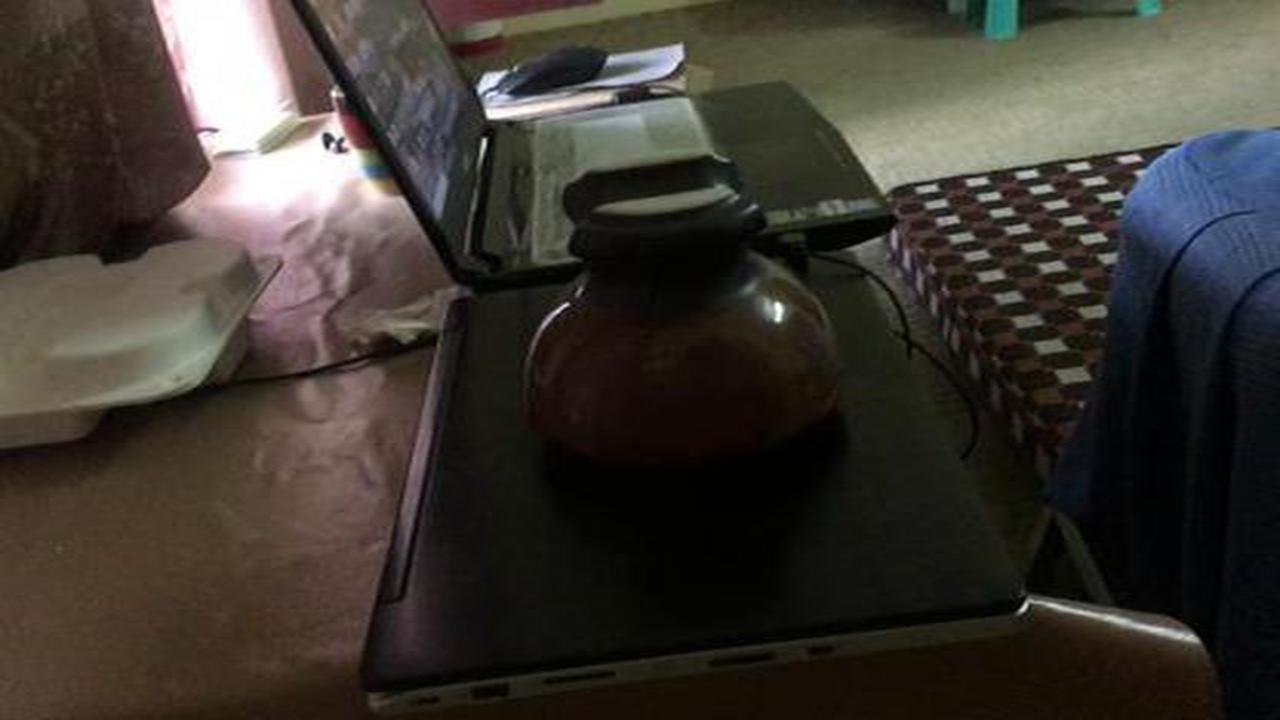insulator_pin: (505, 139, 865, 497)
